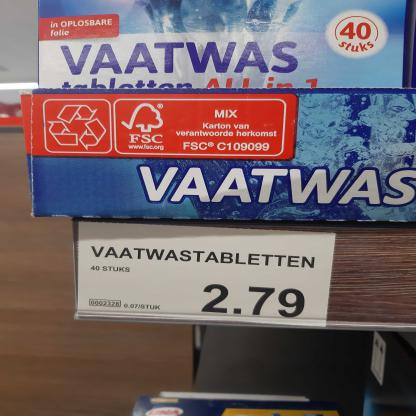prtg: (76, 223, 339, 329)
